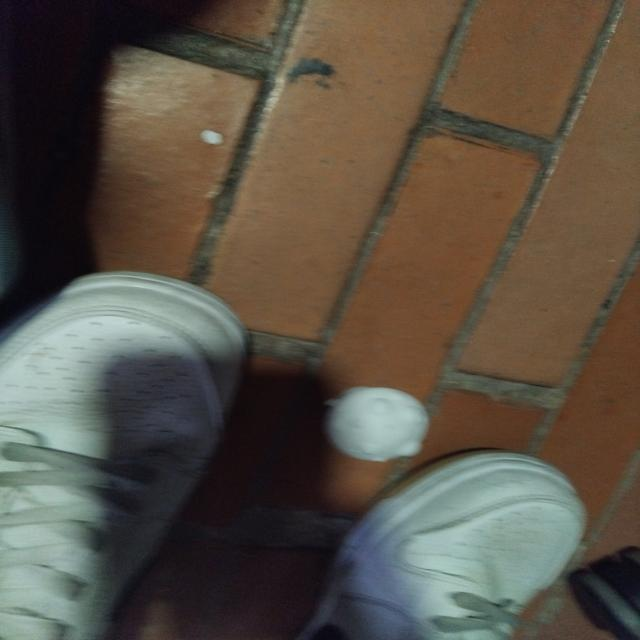Hongo: (317, 376, 429, 465)
